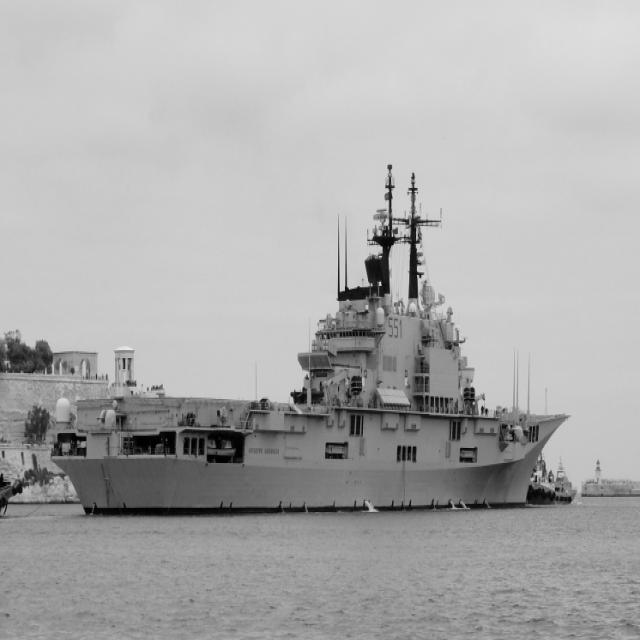Portanaves: (40, 159, 578, 514)
